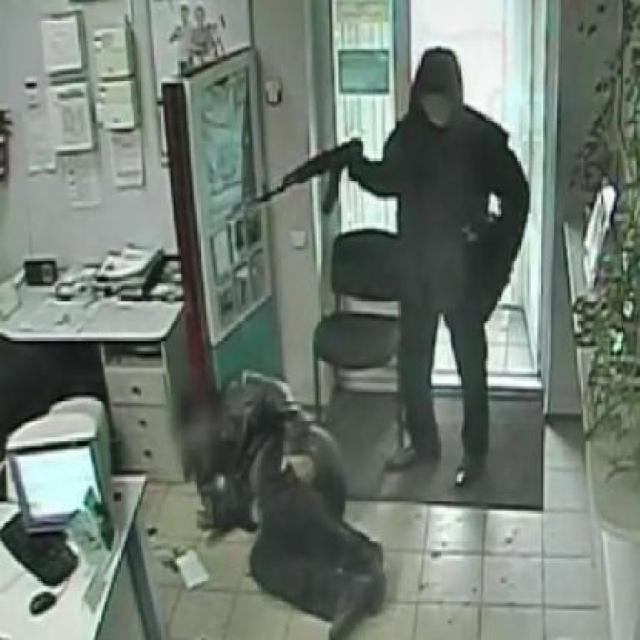weapon: (228, 126, 372, 227)
